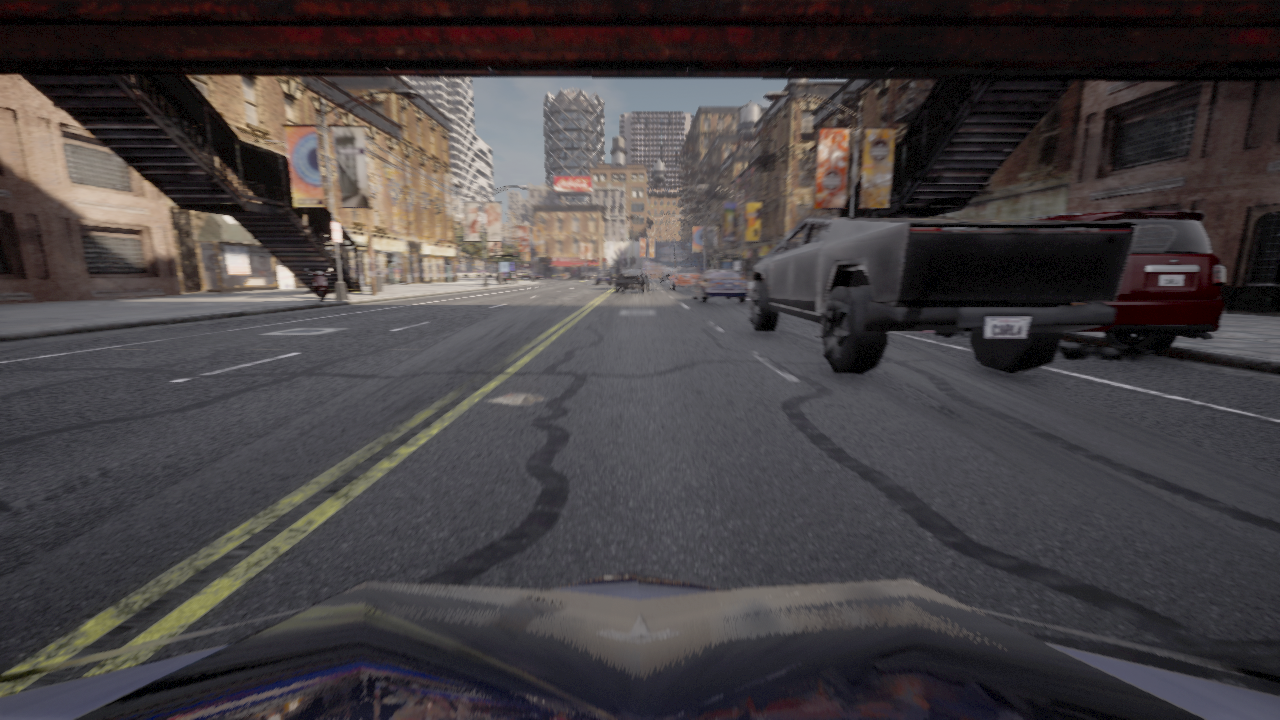cyclist: (0, 569, 1279, 719), (747, 217, 1137, 374), (1015, 210, 1224, 354), (691, 269, 748, 302), (615, 268, 650, 293), (305, 268, 331, 301), (669, 266, 699, 290), (596, 270, 611, 284), (657, 270, 672, 283), (519, 273, 542, 279)
